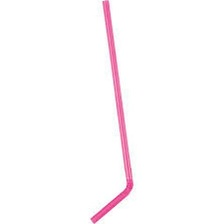drinking_straw: (86, 0, 138, 224)
